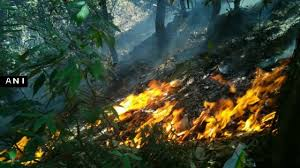fire: (116, 87, 280, 144)
smoke: (119, 10, 228, 67)
